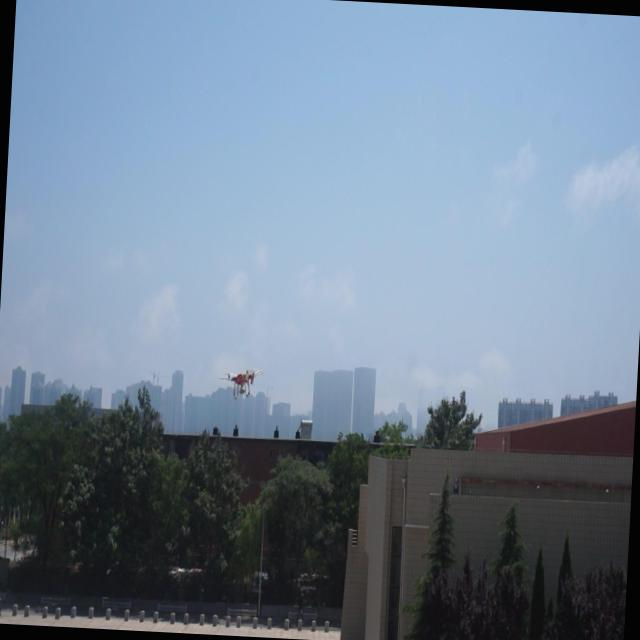drone: (213, 358, 266, 407)
